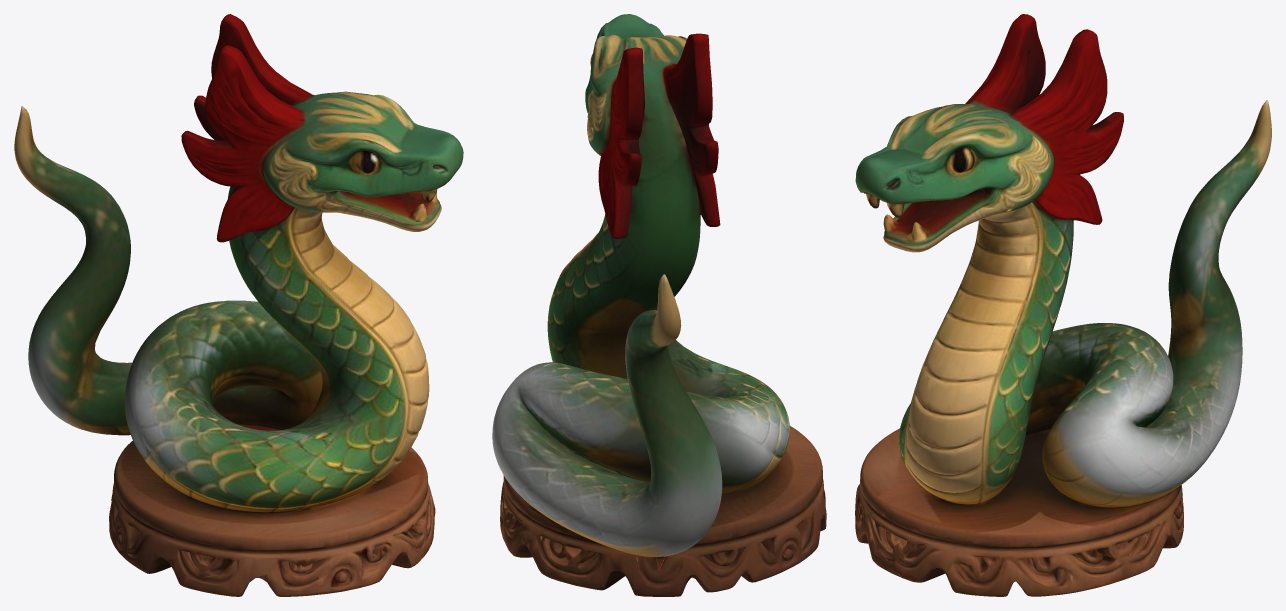
File: naga.glb
3 views of the same model, side by side, from view 1: azimuth 30°, elevation 25°; view 2: azimuth 150°, elevation 25°; view 3: azimuth 270°, elevation 25° (orthographic). The views are drawn at different scales.
Parts seen in each view (by area): view 1: node_0; view 2: node_0; view 3: node_0.
Part boxes in pixels (x1,y1,x2,y2): node_0: (14,14,463,596); node_0: (492,14,826,596); node_0: (855,14,1271,596).
Size of the model in its own units: 0.5834 by 0.9622 by 0.7324.
1 material, 1 textured.
